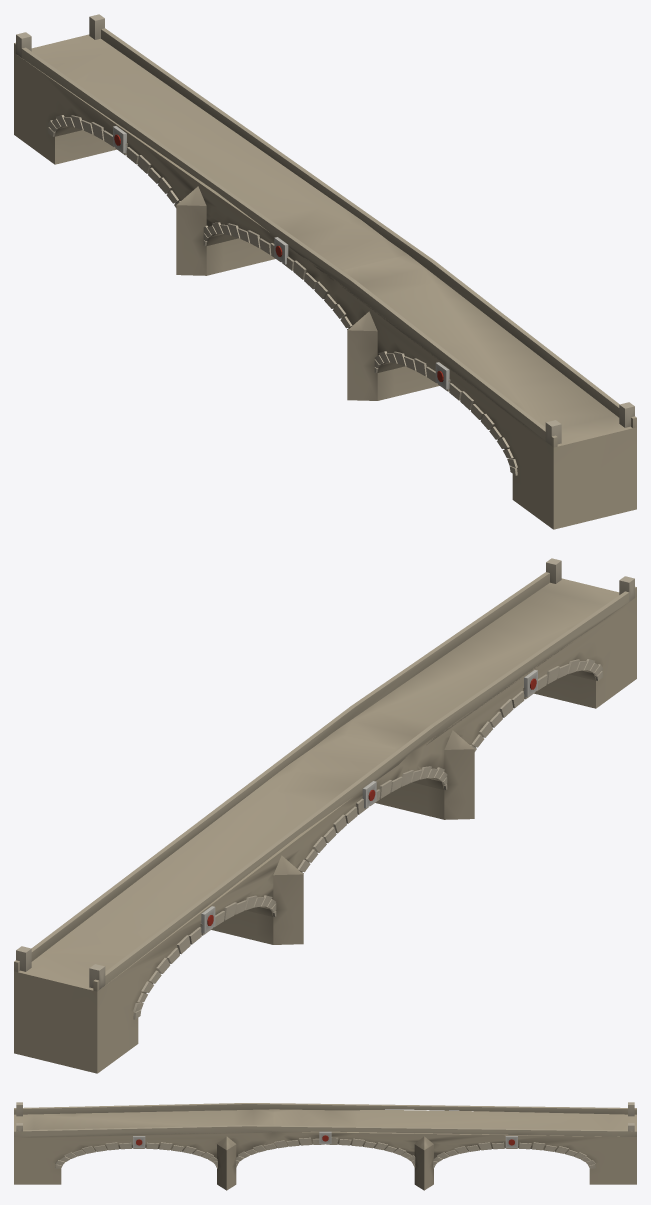
Rendered from ponte-santa-trinita.glb.
The picture shows the model from 3 angles, top to bottom: view 1: azimuth 30°, elevation 25°; view 2: azimuth 150°, elevation 25°; view 3: azimuth 270°, elevation 25°; orthographic projection. The views are drawn at different scales.
Visible parts, largest first — view 1: p0_bridge, p1_ornament; view 2: p0_bridge, p1_ornament; view 3: p0_bridge, p1_ornament.
Boxes of the visible parts, bbox=[...] form: p0_bridge: bbox=[14, 28, 636, 529]; p1_ornament: bbox=[16, 14, 634, 445]; p0_bridge: bbox=[14, 572, 636, 1073]; p1_ornament: bbox=[16, 558, 634, 989]; p0_bridge: bbox=[14, 1103, 636, 1190]; p1_ornament: bbox=[16, 1102, 634, 1147].
Size of the model in its own units: 15.25 by 11.64 by 112.
